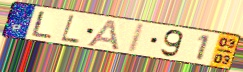1: (195, 34, 211, 62)
9: (159, 29, 185, 58)
A: (84, 18, 120, 52)
I: (125, 22, 147, 55)
L: (30, 10, 55, 40), (59, 14, 81, 45)
